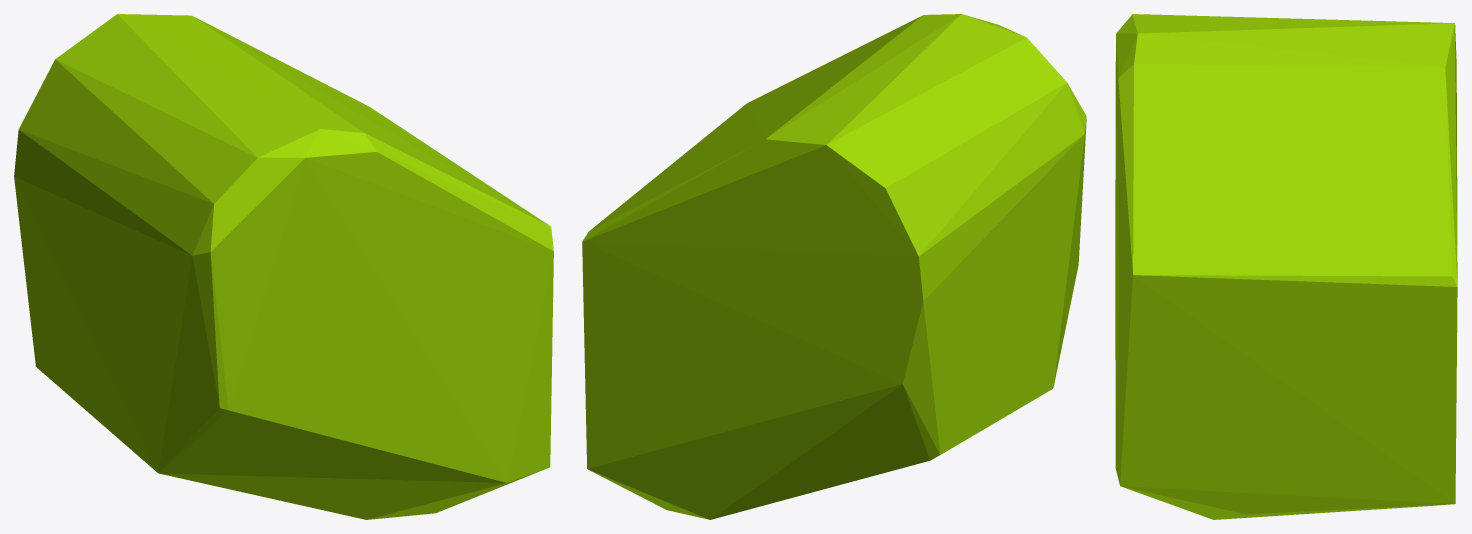
File: tarsus_convex_piece_003.obj
The picture shows the model from 3 angles, left to right: view 1: azimuth 30°, elevation 25°; view 2: azimuth 150°, elevation 25°; view 3: azimuth 270°, elevation 25°; orthographic projection. The views are drawn at different scales.
Size of the model in its own units: 0.0814 by 0.0975 by 0.0727.
